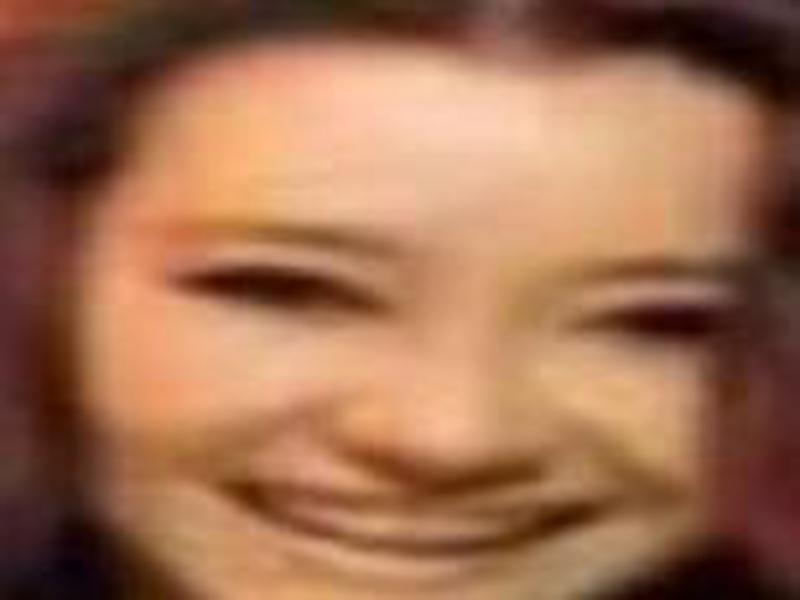without_mask: (80, 123, 768, 593)
